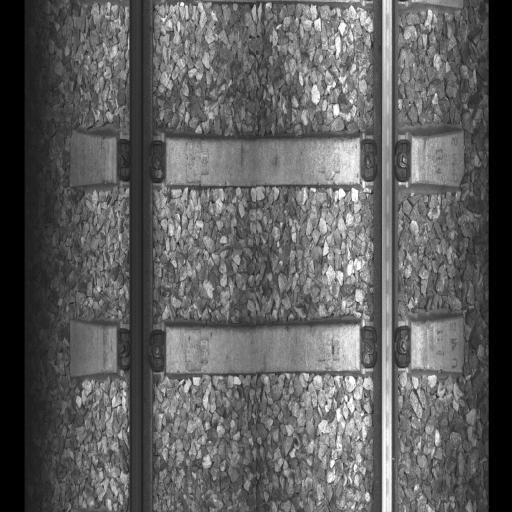clips: (115, 134, 165, 183), (362, 136, 412, 185), (361, 323, 410, 369), (118, 325, 166, 367)
sleepers: (70, 130, 462, 189), (69, 319, 463, 371)
